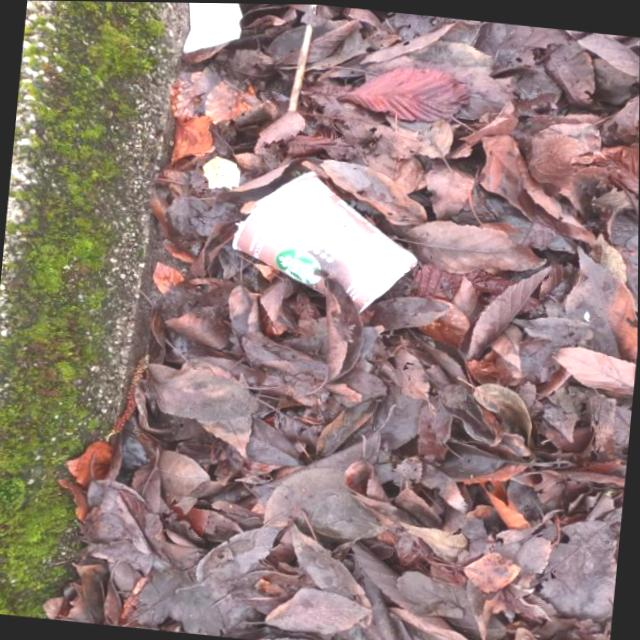Cup: (221, 158, 431, 320)
